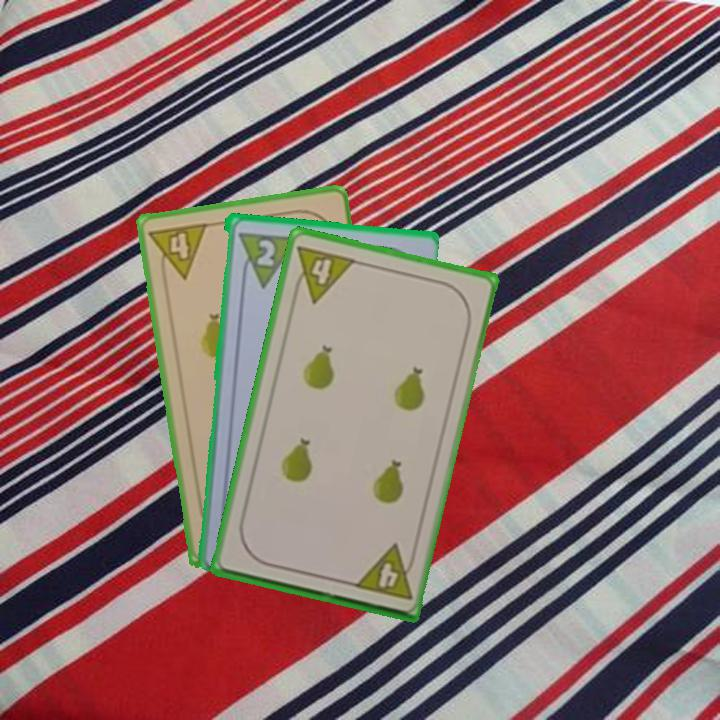2p: (234, 228, 297, 290)
4p: (288, 241, 359, 306), (350, 541, 419, 603), (146, 219, 210, 285)
